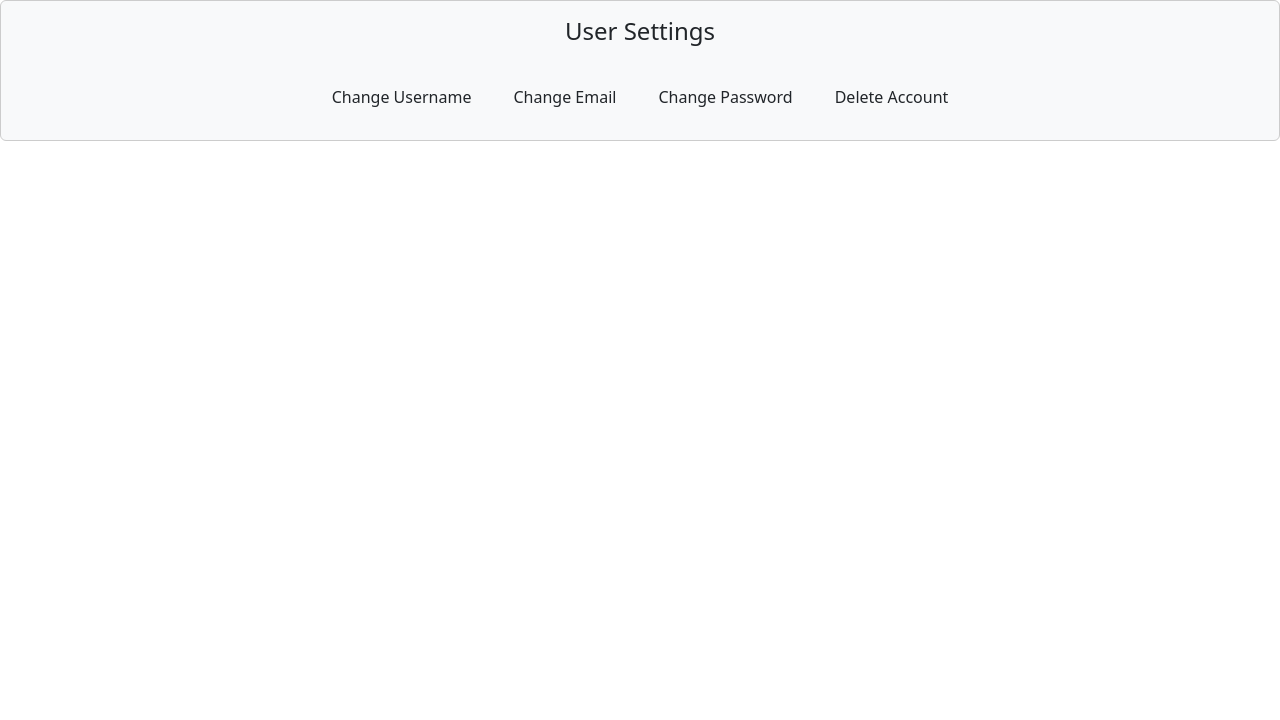
Scenario: SettingsTable Component › shows error message for incorrect delete confirmation
Click the button "Delete Account" at [892, 97], box [822, 78, 961, 116]
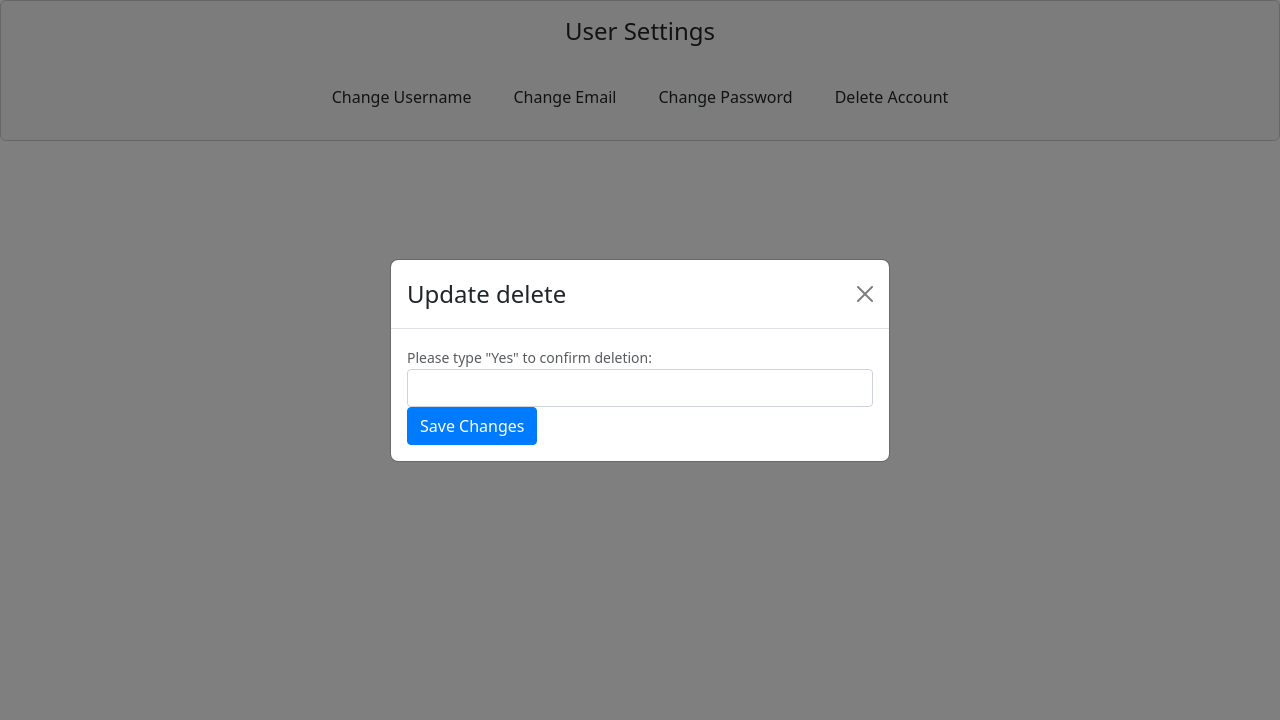
Type "no" into the field named "delete-confirm-input" at [640, 388], box [407, 368, 873, 406]
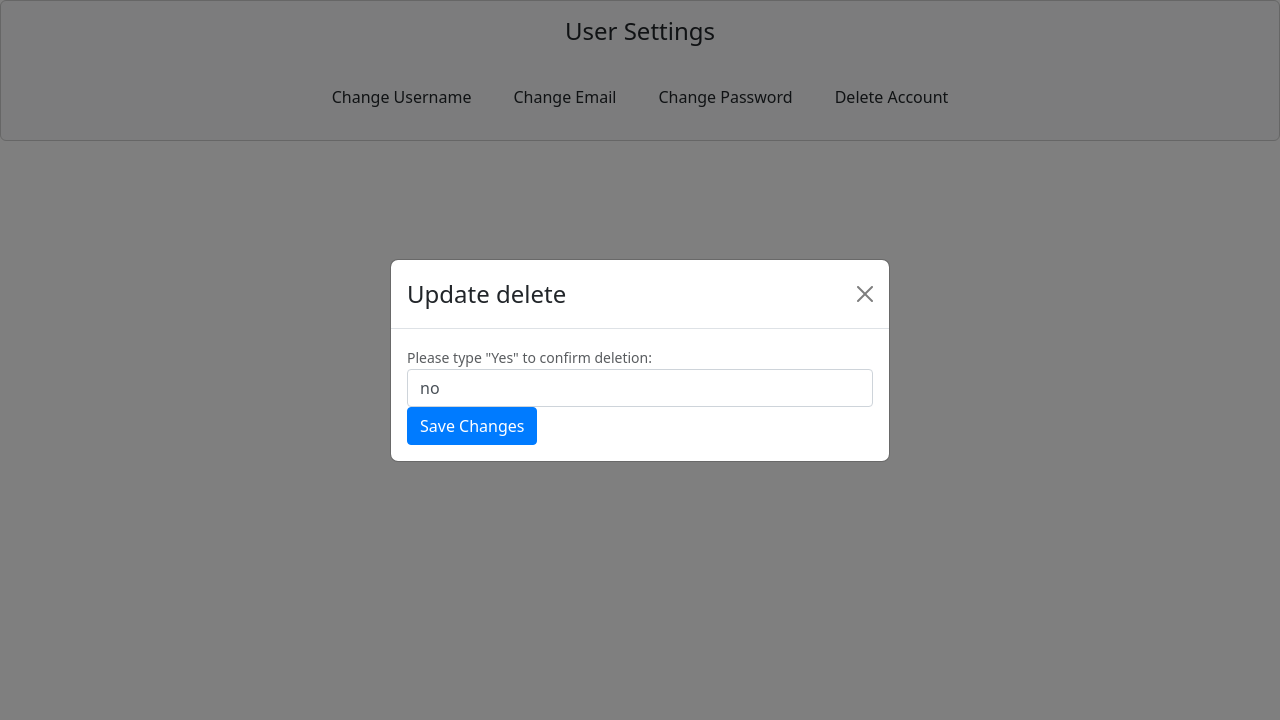
Click the button "Save Changes" at [472, 426], box [407, 406, 538, 444]
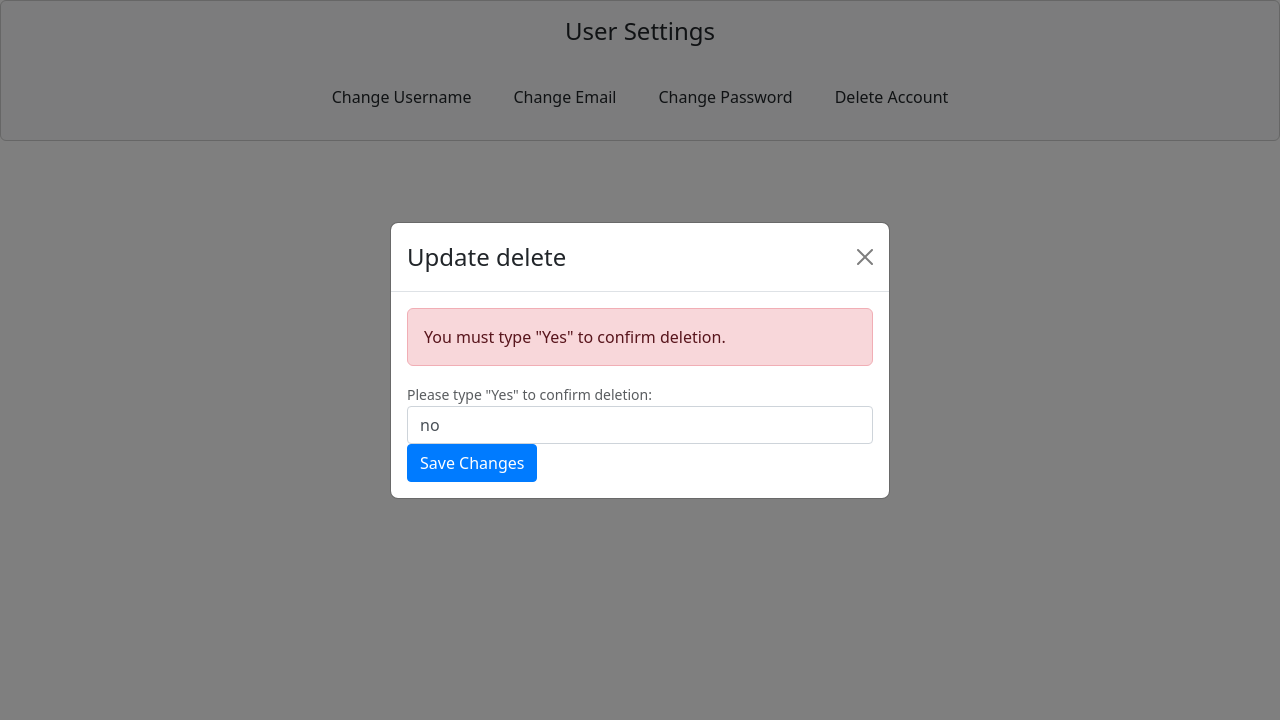
Expected: the text "You must type \"Yes\" to confirm deletion." is shown, [407, 308, 873, 366]
